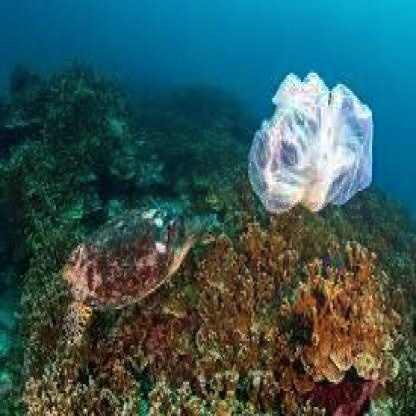pbag: (246, 68, 376, 234)
